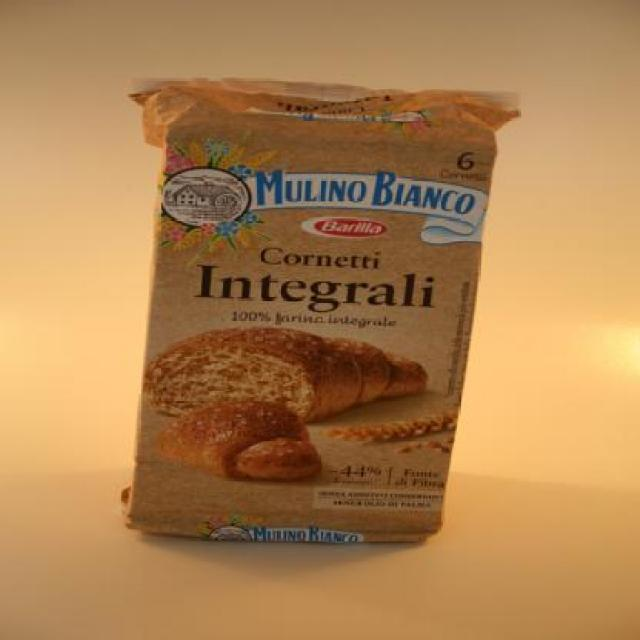Merendine: (104, 79, 524, 548)
